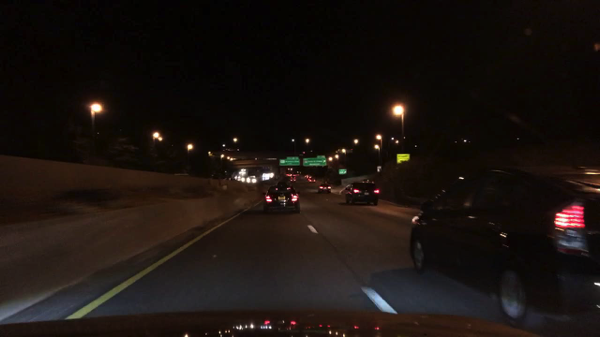car: (406, 159, 598, 336), (261, 184, 301, 213), (343, 179, 381, 207), (316, 183, 333, 195), (275, 179, 292, 187), (234, 174, 244, 183), (262, 172, 273, 179), (247, 176, 256, 184), (308, 177, 316, 184), (285, 172, 293, 178), (290, 176, 297, 182), (292, 172, 300, 177), (305, 175, 311, 179)
traffic sign: (302, 157, 327, 166), (278, 159, 300, 167), (396, 153, 409, 164), (337, 169, 347, 176), (285, 157, 299, 160), (375, 166, 382, 172), (316, 155, 325, 159)
